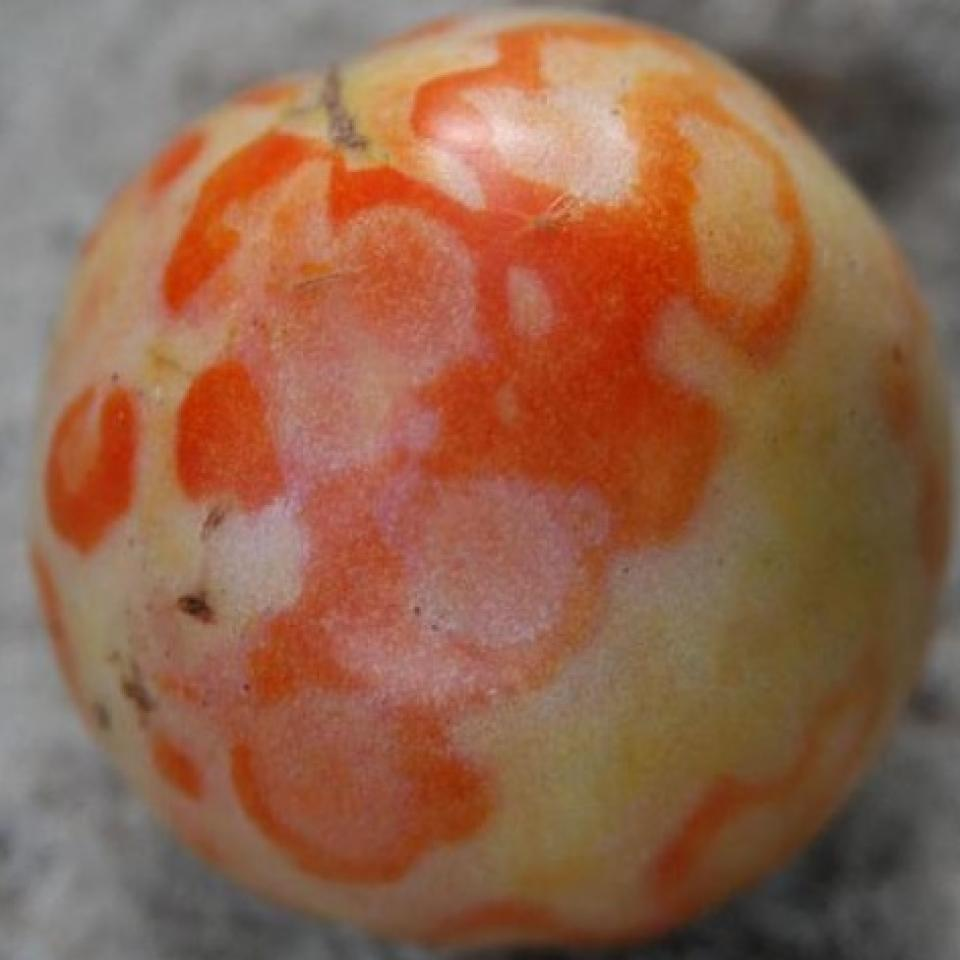Spotted wilt Virus: (21, 6, 956, 948)
